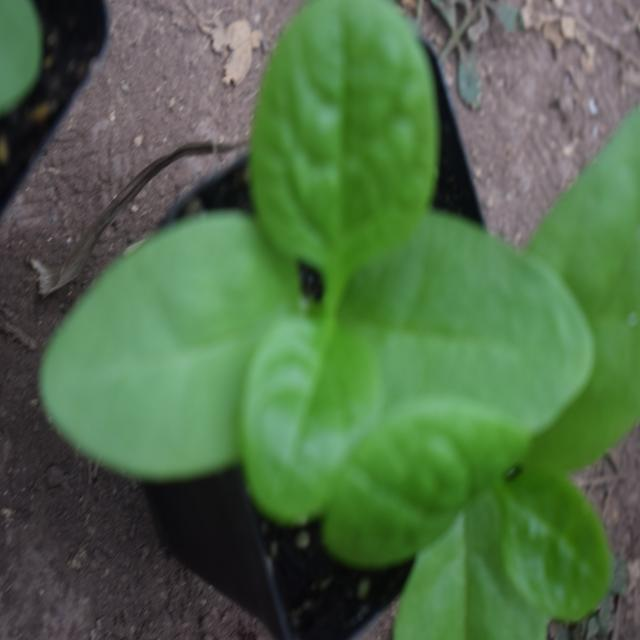Ceylon spinach: (68, 6, 589, 543)
